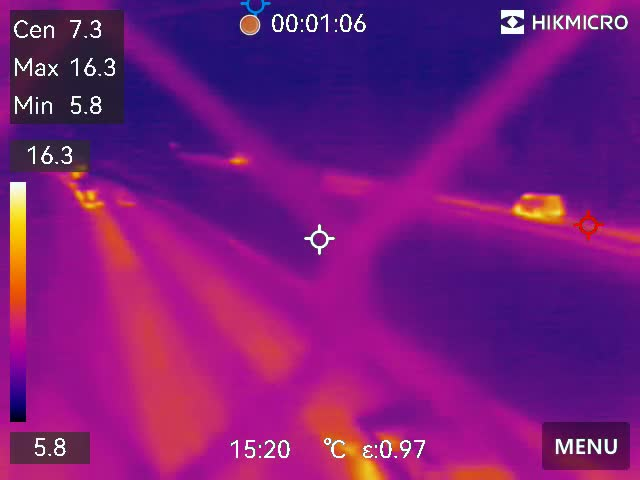vehicle: (512, 190, 568, 221)
